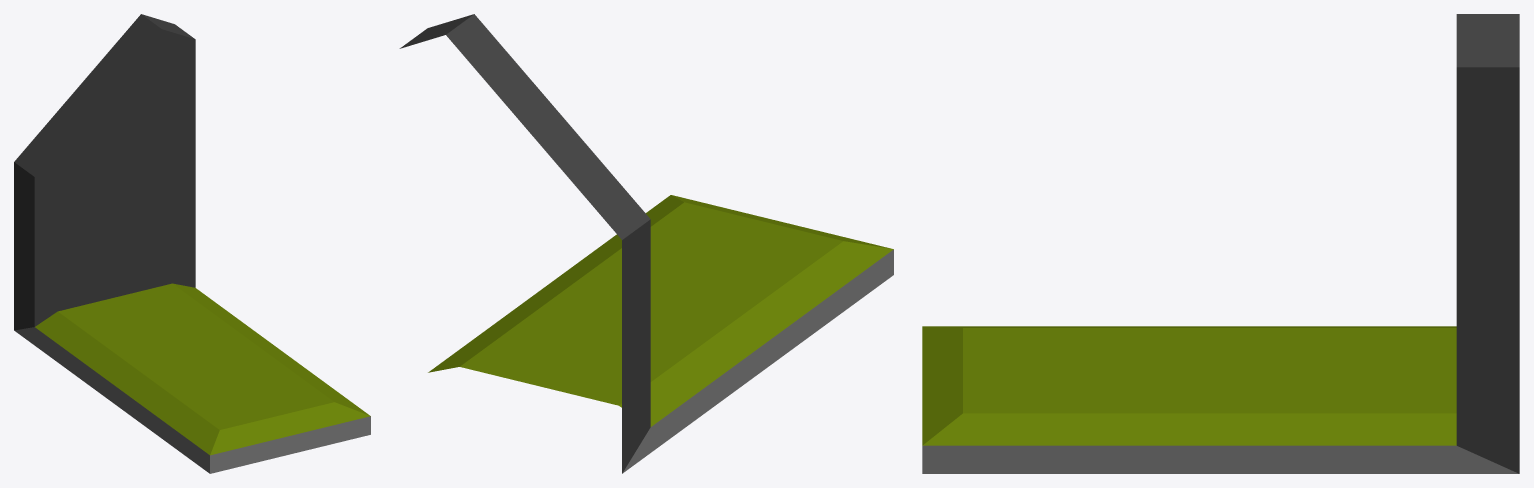
Rendered from TombAssymetrical.glb.
3 views of the same model, side by side, from view 1: azimuth 30°, elevation 25°; view 2: azimuth 150°, elevation 25°; view 3: azimuth 270°, elevation 25° (orthographic). The views are drawn at different scales.
Visible parts, largest first — view 1: TombAssymetrical; view 2: TombAssymetrical; view 3: TombAssymetrical.
Part boxes in pixels (x1,y1,x2,y2): TombAssymetrical: (14, 14, 370, 473); TombAssymetrical: (399, 14, 893, 473); TombAssymetrical: (922, 14, 1519, 473).
Bounding box in the file's own units: 0.9 × 1.53 × 1.9.
